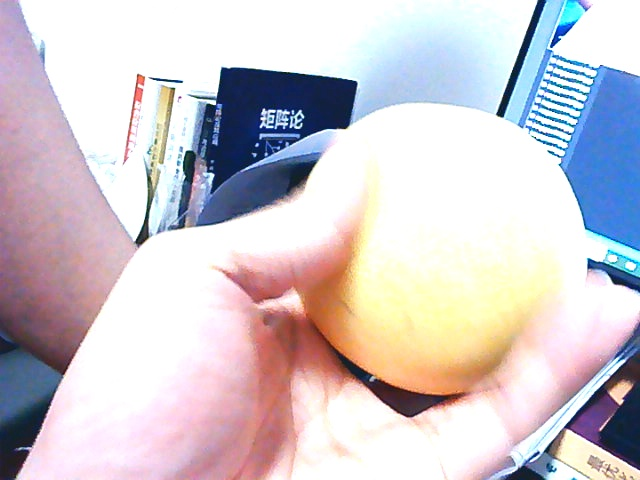pear: (297, 85, 588, 397)
